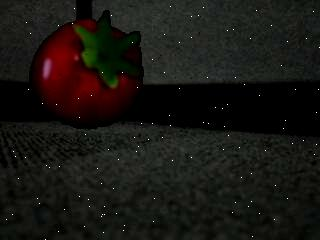Tomato: (30, 9, 146, 130)
